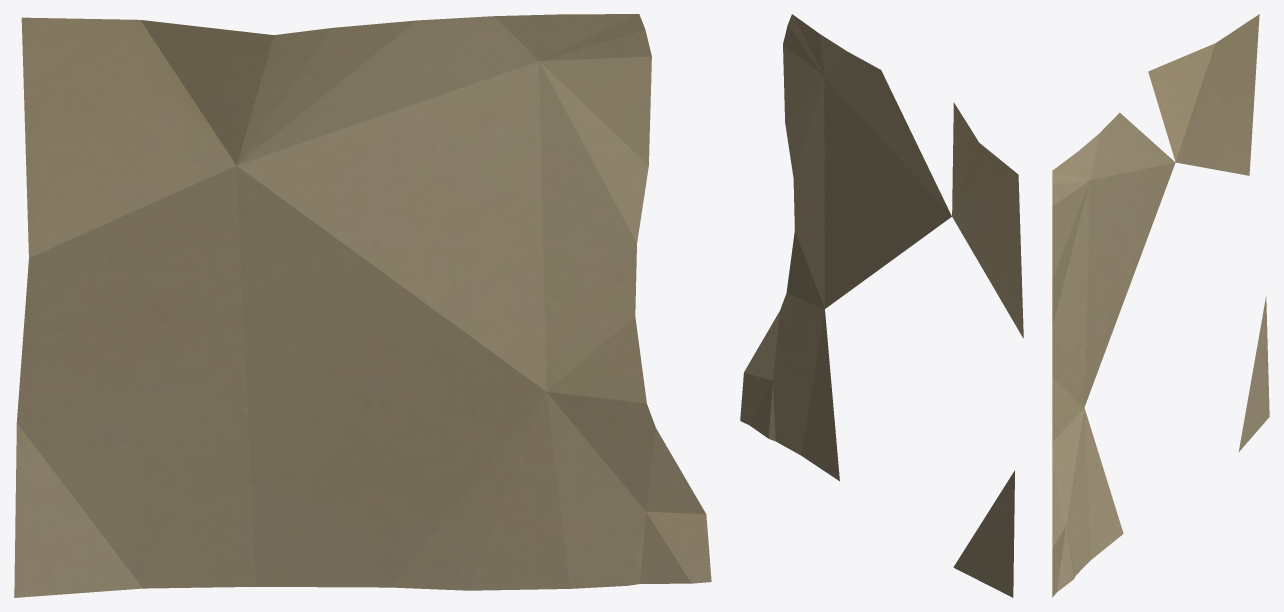
The picture shows the model from 3 angles, left to right: view 1: azimuth 30°, elevation 25°; view 2: azimuth 150°, elevation 25°; view 3: azimuth 270°, elevation 25°; orthographic projection. The views are drawn at different scales.
Bounding box in the file's own units: 1.61 × 1.67 × 0.8188.
2 materials, 2 textured.
